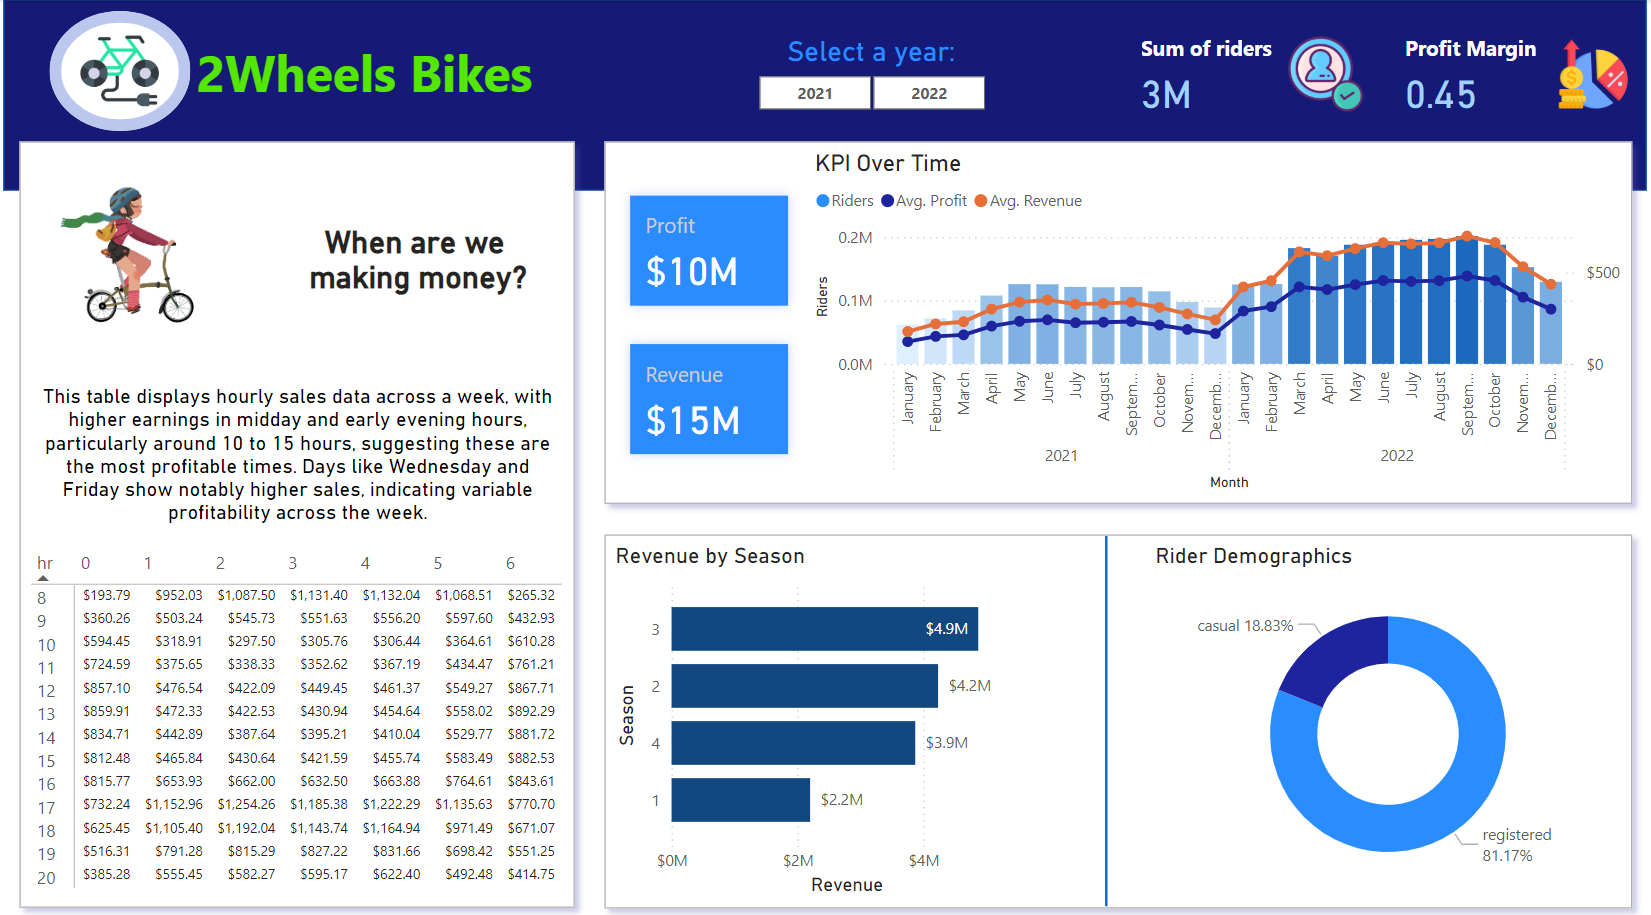

This screenshot's page, from the dashboard's own definition file:
{"tool":"powerbi","page":{"name":"Page 1","canvas":[1280,720],"ordinal":0},"visuals":[{"type":"shape","box":[4.6,0,1270,148.3],"z":0},{"type":"cardVisual","fields":{"Data":["Min(Query1.riders)"]},"box":[0,92.7,463.5,626.9],"z":1000},{"type":"cardVisual","fields":{"Data":["Min(Query1.riders)"]},"box":[451.9,92.7,828.5,314],"z":2000},{"type":"cardVisual","fields":{"Data":["Min(Query1.riders)"]},"box":[451.9,396.3,828.5,323.3],"z":3000},{"type":"cardVisual","fields":{"Data":["Min(Query1.riders)"]},"box":[20.9,115.9,176.1,153],"z":4000},{"type":"pivotTable","fields":{"Rows":["Query1.hr"],"Values":["Avg(Query1.revenue)"],"Columns":["Query1.weekday"]},"box":[20.9,420.6,422.9,275.8],"z":5000},{"type":"textbox","box":[230.6,168,190,84.6],"z":6000},{"type":"lineClusteredColumnComboChart","title":"KPI Over Time","fields":{"Y":["Sum(Query1.riders)"],"Category":["Query1.dteday.Variation.Date Hierarchy.Year","Query1.dteday.Variation.Date Hierarchy.Month"],"Y2":["Avg(Query1.profit)","Avg(Query1.revenue)"]},"box":[626.9,115.9,631.5,267.7],"z":8000},{"type":"clusteredBarChart","fields":{"Category":["Query1.season"],"Y":["Sum(Query1.revenue)"]},"box":[472.8,419.5,336,276.9],"z":9000},{"type":"donutChart","title":"Rider Demographics","fields":{"Category":["Query1.rider_type"],"Y":["Sum(Query1.riders)"]},"box":[889.9,419.5,368.5,276.9],"z":10000},{"type":"shape","box":[706.8,414.8,300.1,286.2],"z":11000},{"type":"cardVisual","fields":{"Data":["Sum(Query1.profit)","Sum(Query1.revenue)"]},"box":[472.8,135.6,154.1,232.9],"z":12000},{"type":"cardVisual","fields":{"Data":["Sum(Query1.riders)","Query1.Profit Margin"]},"box":[866.7,9.3,410.2,92.7],"z":13000},{"type":"shape","box":[40.6,9.3,108.9,92.7],"z":14000},{"type":"image","box":[59.1,18.5,70.7,74.2],"z":15000},{"type":"shape","box":[154.1,19.7,266.5,71.8],"z":15001},{"type":"shape","box":[31.3,282.7,402.1,136.7],"z":15002},{"type":"slicer","title":"Select a year:","fields":{"Values":["Query1.year"]},"box":[563.1,28,224,62.6],"z":15003}]}

Visuals, with their boxes in screenshot pixels (x1, y1, x2, y2), scaled from the page's 1280x720 canvas onto the 1651x915 screenshot:
shape: 6 0 1644 188
cardVisual - Min(Query1.riders): 0 118 598 914
cardVisual - Min(Query1.riders): 583 118 1650 517
cardVisual - Min(Query1.riders): 583 504 1650 914
cardVisual - Min(Query1.riders): 27 147 254 342
pivotTable - Query1.hr x Avg(Query1.revenue): 27 535 572 885
textbox: 297 214 543 321
"KPI Over Time" lineClusteredColumnComboChart: 809 147 1623 487
clusteredBarChart - Query1.season x Sum(Query1.revenue): 610 533 1043 885
"Rider Demographics" donutChart: 1148 533 1623 885
shape: 912 527 1299 891
cardVisual - Sum(Query1.profit) x Sum(Query1.revenue): 610 172 809 468
cardVisual - Sum(Query1.riders) x Query1.Profit Margin: 1118 12 1647 130
shape: 52 12 193 130
image: 76 24 167 118
shape: 199 25 543 116
shape: 40 359 559 533
"Select a year:" slicer: 726 36 1015 115
